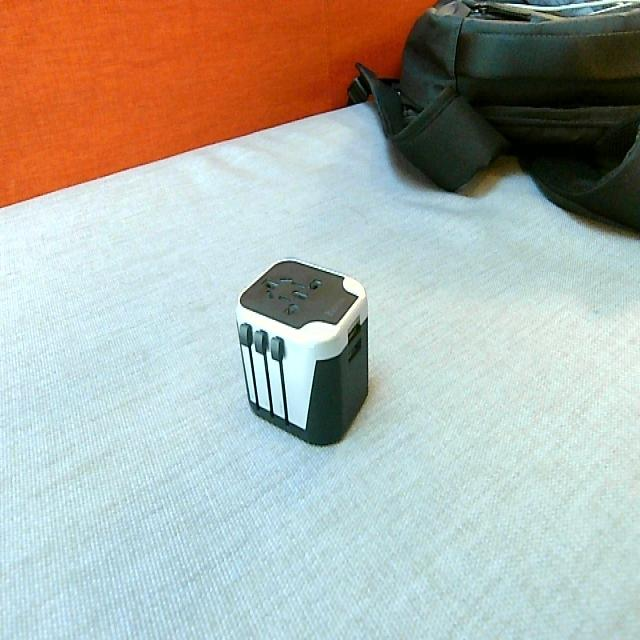adapter: (234, 256, 369, 445)
